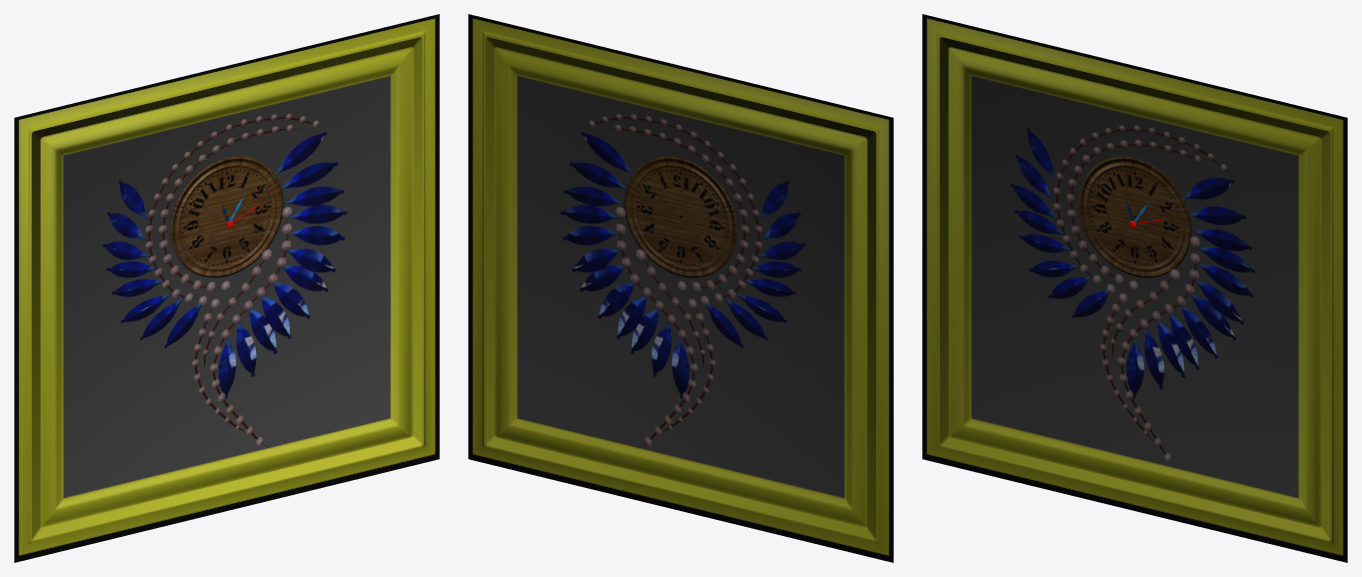
The model's file is 美麗大型水晶金屬壁掛鐘_貼圖版.glb.
3 renders of one model, left to right at view 1: azimuth 30°, elevation 25°; view 2: azimuth 150°, elevation 25°; view 3: azimuth 330°, elevation 25°, orthographic.
Parts seen in each view (by area): view 1: 美麗大型水晶金屬壁掛鐘_貼圖版; view 2: 美麗大型水晶金屬壁掛鐘_貼圖版; view 3: 美麗大型水晶金屬壁掛鐘_貼圖版.
Part boxes in pixels (<box>): 美麗大型水晶金屬壁掛鐘_貼圖版: <box>14,14,439,562</box>; 美麗大型水晶金屬壁掛鐘_貼圖版: <box>468,14,893,562</box>; 美麗大型水晶金屬壁掛鐘_貼圖版: <box>922,14,1347,562</box>.
Size of the model in its own units: 820 by 820 by 11.33.
Materials: 4 (1 with a texture image).
